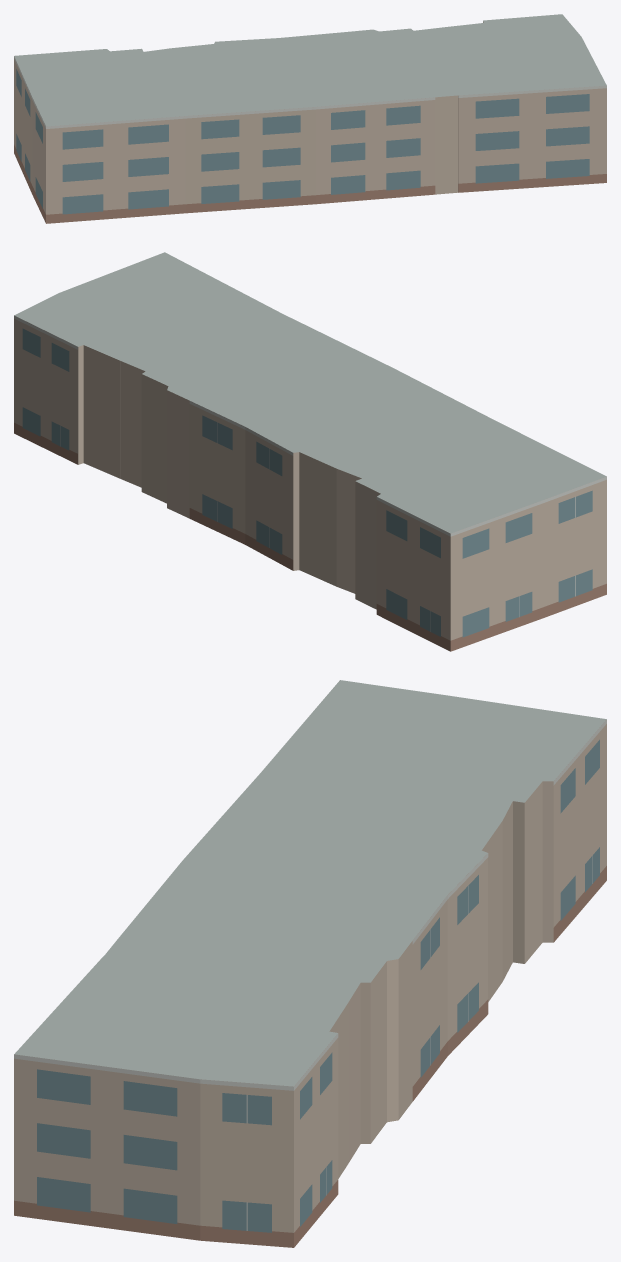
The model's file is survey-upis-32466261.glb.
3 renders of one model, top to bottom at view 1: azimuth 30°, elevation 25°; view 2: azimuth 150°, elevation 25°; view 3: azimuth 270°, elevation 25°, orthographic. The views are drawn at different scales.
Parts seen in each view (by area): view 1: survey-upis-32466261.tmp; view 2: survey-upis-32466261.tmp; view 3: survey-upis-32466261.tmp.
Boxes of the visible parts, left/top/right/bottom form: survey-upis-32466261.tmp: left=14, top=14, right=606, bottom=223; survey-upis-32466261.tmp: left=14, top=252, right=606, bottom=651; survey-upis-32466261.tmp: left=14, top=680, right=606, bottom=1247.
Bounding box in the file's own units: 49.45 × 9.15 × 30.48.
